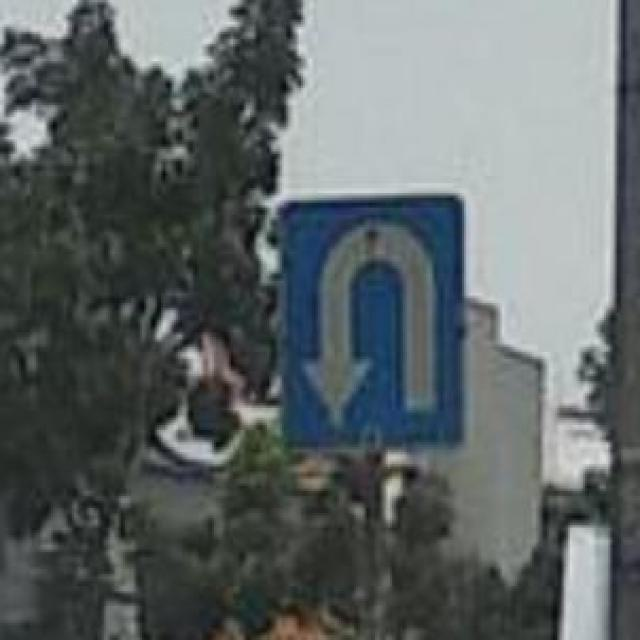U-turn: (279, 201, 465, 448)
